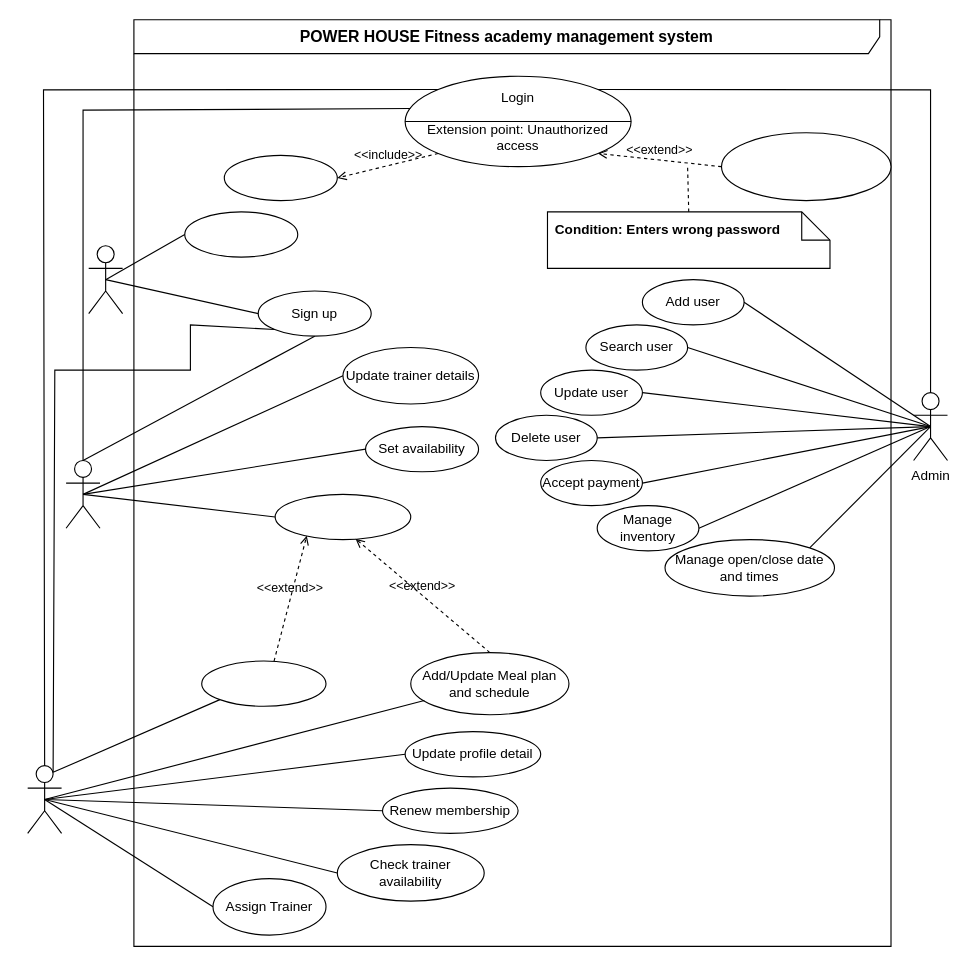
Some shapes in this 970 by 966 pixel diagram are drawn without their labels. Here are the shapes that lost their labels. From the top down, the box of each, then its label:
(223, 154, 337, 201): Verify Password
(720, 132, 891, 201): Handle unauthorized access attempts and forget password
(184, 211, 298, 257): Calculate BMI
(546, 211, 830, 268): Extension Point: Unauthorized access
(88, 245, 123, 314): Visitor
(65, 459, 100, 528): Trainer
(274, 493, 411, 540): View assigned users
(201, 660, 326, 706): View Progress
(27, 764, 62, 833): Member
